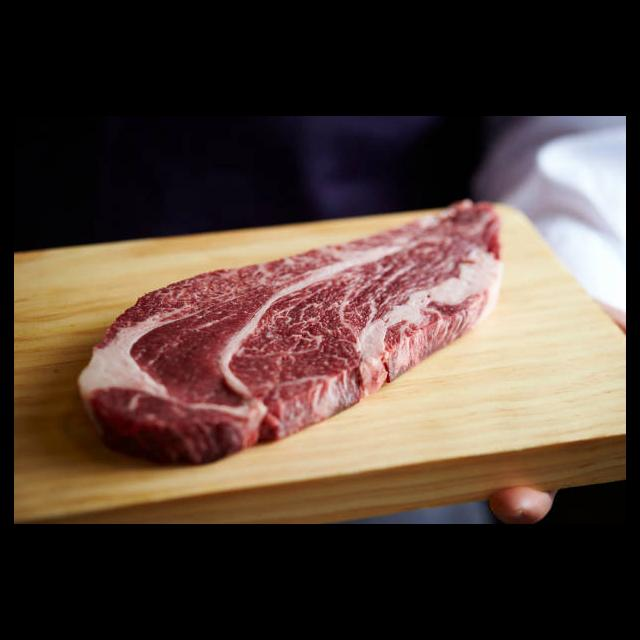beef: (76, 202, 507, 467)
